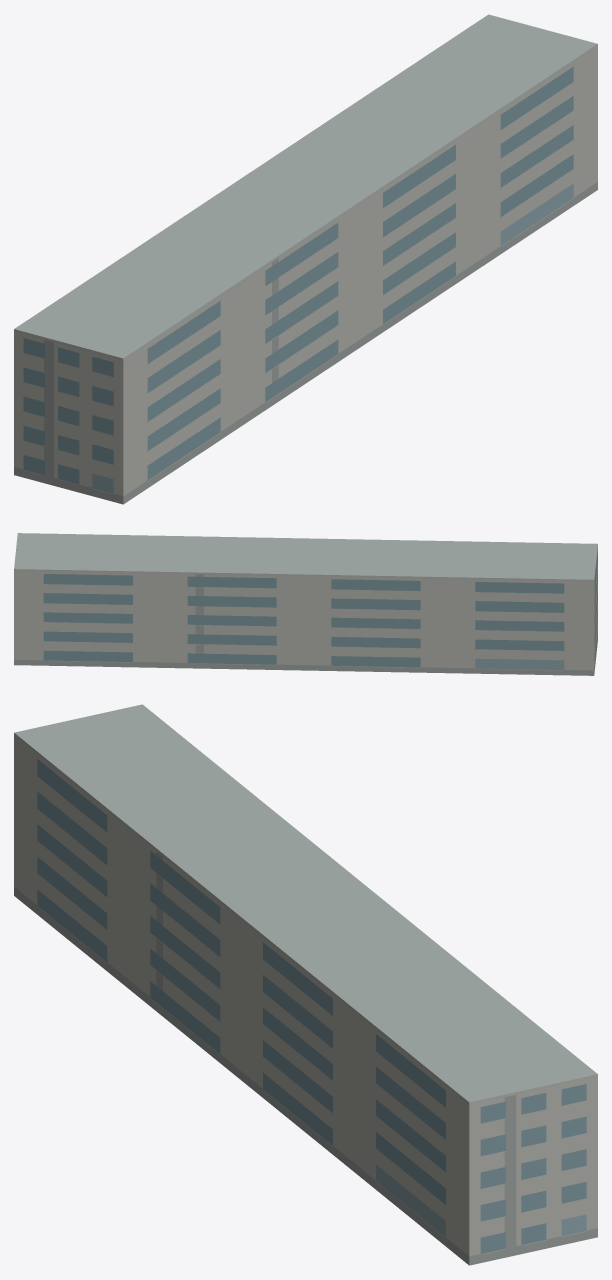
The model's file is residential-f631cb5d-3b75-4a23-ae50-42f5ffde1651.glb.
3 views of the same model, one above another, from view 1: azimuth 30°, elevation 25°; view 2: azimuth 150°, elevation 25°; view 3: azimuth 270°, elevation 25° (orthographic). The views are drawn at different scales.
Parts seen in each view (by area): view 1: residential-f631cb5d-3b75-4a23-ae50-42f5ffde1651.tmp; view 2: residential-f631cb5d-3b75-4a23-ae50-42f5ffde1651.tmp; view 3: residential-f631cb5d-3b75-4a23-ae50-42f5ffde1651.tmp.
Boxes of the visible parts, box(x1,y1,x2,y2) form: residential-f631cb5d-3b75-4a23-ae50-42f5ffde1651.tmp: box(14, 14, 597, 504); residential-f631cb5d-3b75-4a23-ae50-42f5ffde1651.tmp: box(14, 533, 597, 675); residential-f631cb5d-3b75-4a23-ae50-42f5ffde1651.tmp: box(14, 704, 597, 1265).
Size of the model in its own units: 79.81 by 15.25 by 49.47.
